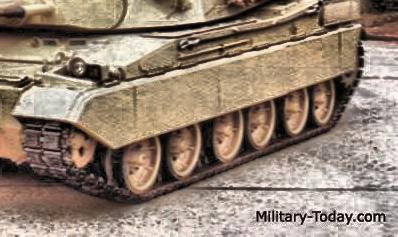tanks: (1, 1, 362, 204)
